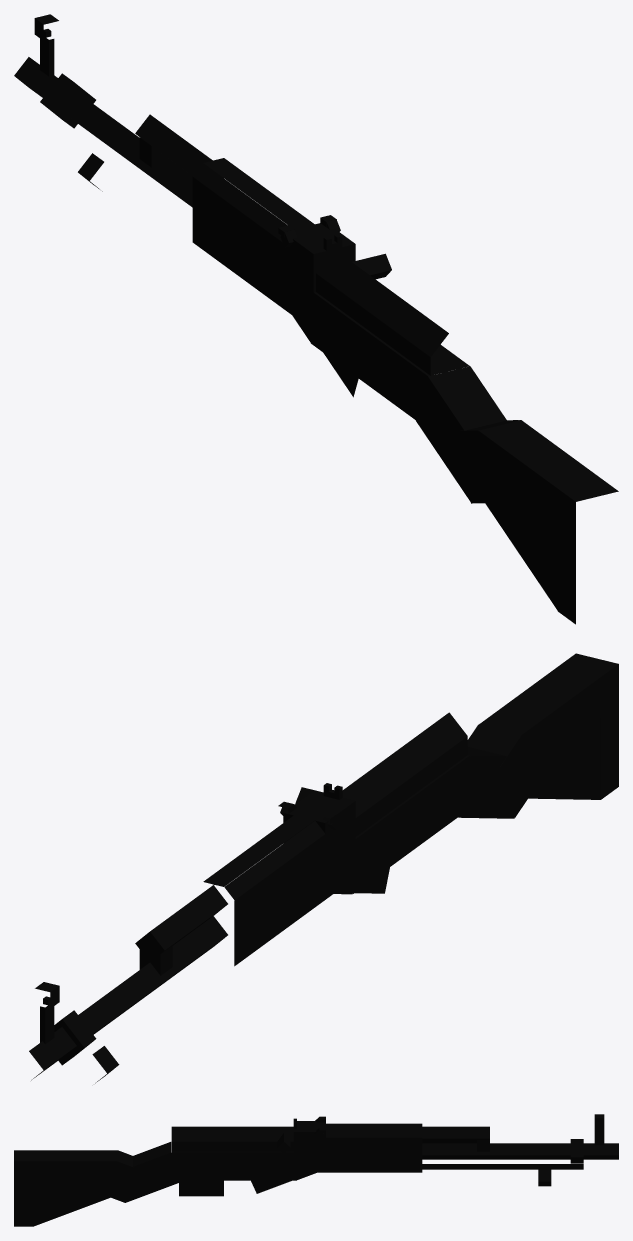
Rendered from aurorasarsenal_sks.glb.
3 views of the same model, one above another, from view 1: azimuth 30°, elevation 25°; view 2: azimuth 150°, elevation 25°; view 3: azimuth 270°, elevation 25° (orthographic). The views are drawn at different scales.
Visible parts, largest first — view 1: Gun; view 2: Gun; view 3: Gun.
Part boxes in pixels (left/top/right/bottom): Gun: left=14, top=14, right=618, bottom=624; Gun: left=29, top=653, right=618, bottom=1083; Gun: left=14, top=1114, right=618, bottom=1226.
Bounding box in the file's own units: 0.081 × 0.2247 × 1.17.
Materials: 1 (1 with a texture image).
